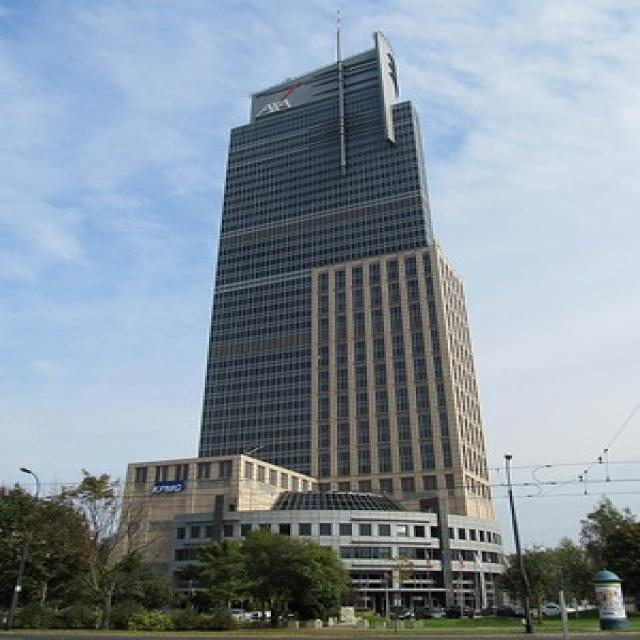building: (189, 25, 511, 620)
